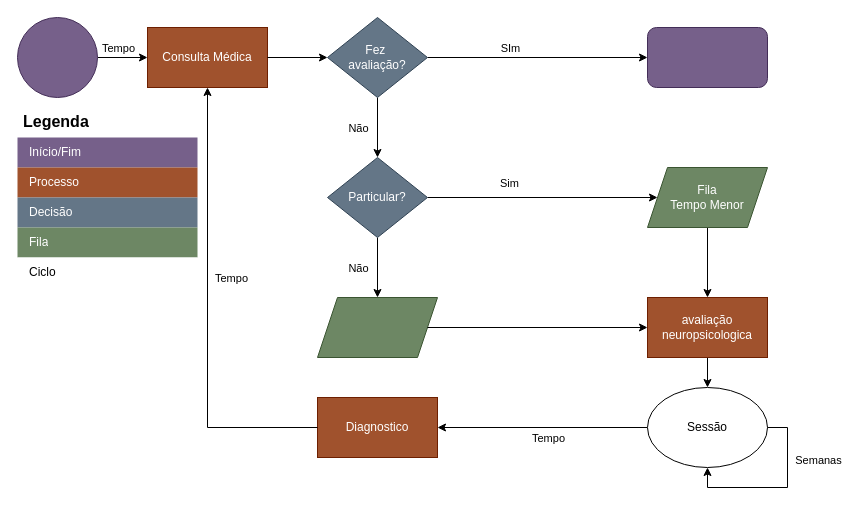
Image size: 858x513. Some labels were removed from this diagram. The shapes that lost their labels are listed below. From the top down, each one's centre as x and y in pixels, then its label:
At (x=57, y=57): "Suspeita".
At (x=707, y=57): "Acompanhamento, Encaminhamento e Medicamentos".
At (x=377, y=327): "Fila Tempo Maior".
